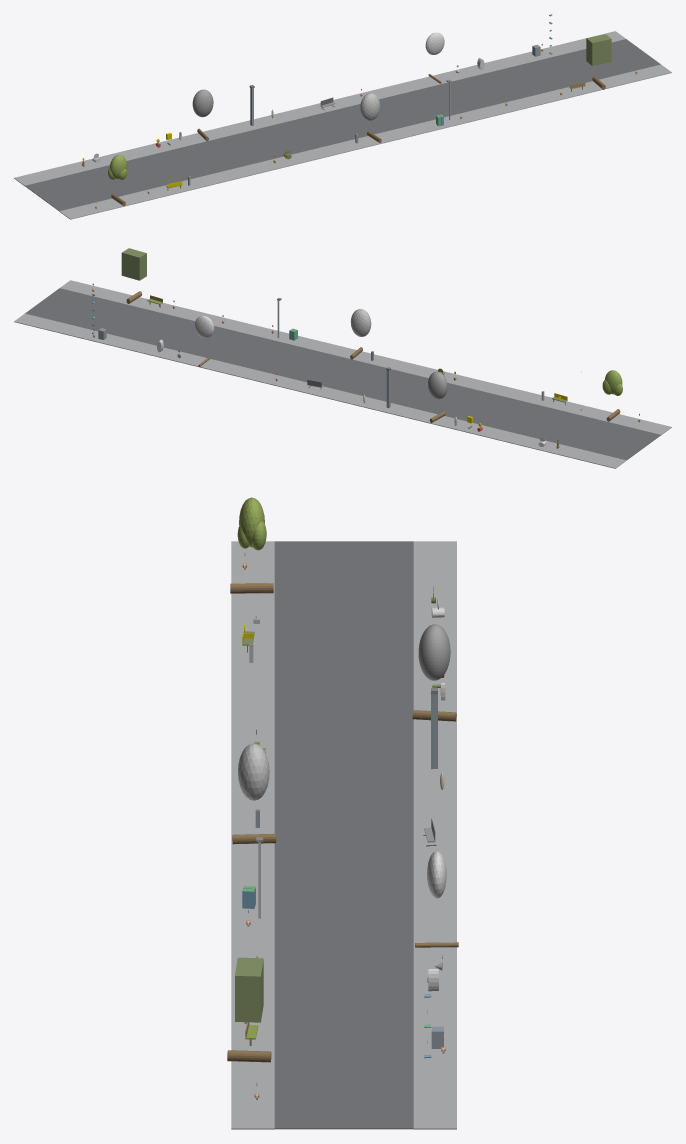
3 renders of one model, top to bottom at view 1: azimuth 30°, elevation 25°; view 2: azimuth 150°, elevation 25°; view 3: azimuth 270°, elevation 25°, orthographic. The views are drawn at different scales.
Visible parts, largest first — view 1: road_slab, sidewalk_left, sidewalk_right, inst_0016, inst_0013, inst_0014, inst_0012, inst_0015; view 2: road_slab, sidewalk_right, sidewalk_left, inst_0016, inst_0014, inst_0013, inst_0012, inst_0015; view 3: road_slab, sidewalk_right, sidewalk_left, inst_0016, inst_0014, inst_0013, inst_0012, inst_0015.
Part boxes in pixels (box(x1,y1,x2,y2)): road_slab: box(25, 39, 660, 211); sidewalk_left: box(59, 64, 671, 219); sidewalk_right: box(14, 31, 625, 186); inst_0016: box(586, 34, 611, 89); inst_0013: box(192, 89, 213, 141); inst_0014: box(360, 93, 381, 142); inst_0012: box(108, 155, 127, 206); inst_0015: box(425, 32, 444, 83); road_slab: box(25, 288, 660, 460); sidewalk_right: box(14, 313, 626, 468); sidewalk_left: box(60, 280, 671, 435); inst_0016: box(121, 248, 146, 303); inst_0014: box(350, 309, 371, 359); inst_0013: box(428, 371, 447, 422); inst_0012: box(602, 370, 622, 421); inst_0015: box(194, 315, 214, 366); road_slab: box(274, 541, 413, 1129); sidewalk_right: box(413, 541, 456, 1129); sidewalk_left: box(231, 541, 274, 1129); inst_0016: box(227, 957, 271, 1062); inst_0014: box(232, 743, 276, 844); inst_0013: box(412, 624, 456, 721); inst_0012: box(230, 497, 273, 593); inst_0015: box(415, 851, 458, 947).
Bounding box in the file's own units: 80 × 6.08 × 13.32.
